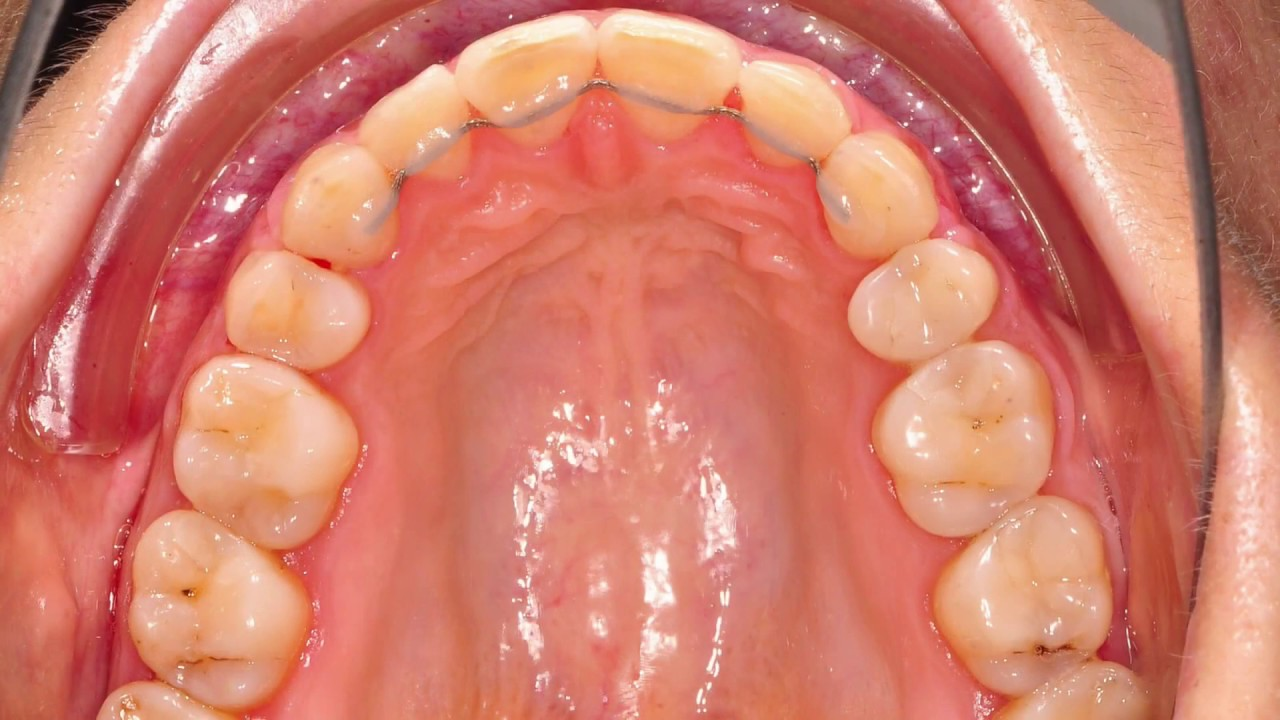UL1BC_healthy: (833, 244, 988, 361)
UL1M_decay: (939, 515, 1113, 663)
UL2BC_healthy: (874, 359, 1059, 528)
ULCI_decay: (600, 15, 739, 137)
ULC_decay: (809, 143, 933, 255)
ULLI_decay: (740, 67, 841, 172)
UR1BC_healthy: (239, 256, 372, 363)
UR1M_decay: (126, 526, 314, 700)
UR2BC_healthy: (184, 367, 357, 535)
URCI_decay: (467, 21, 595, 143)
URC_decay: (288, 147, 404, 262)
URLI_decay: (363, 69, 473, 183)
